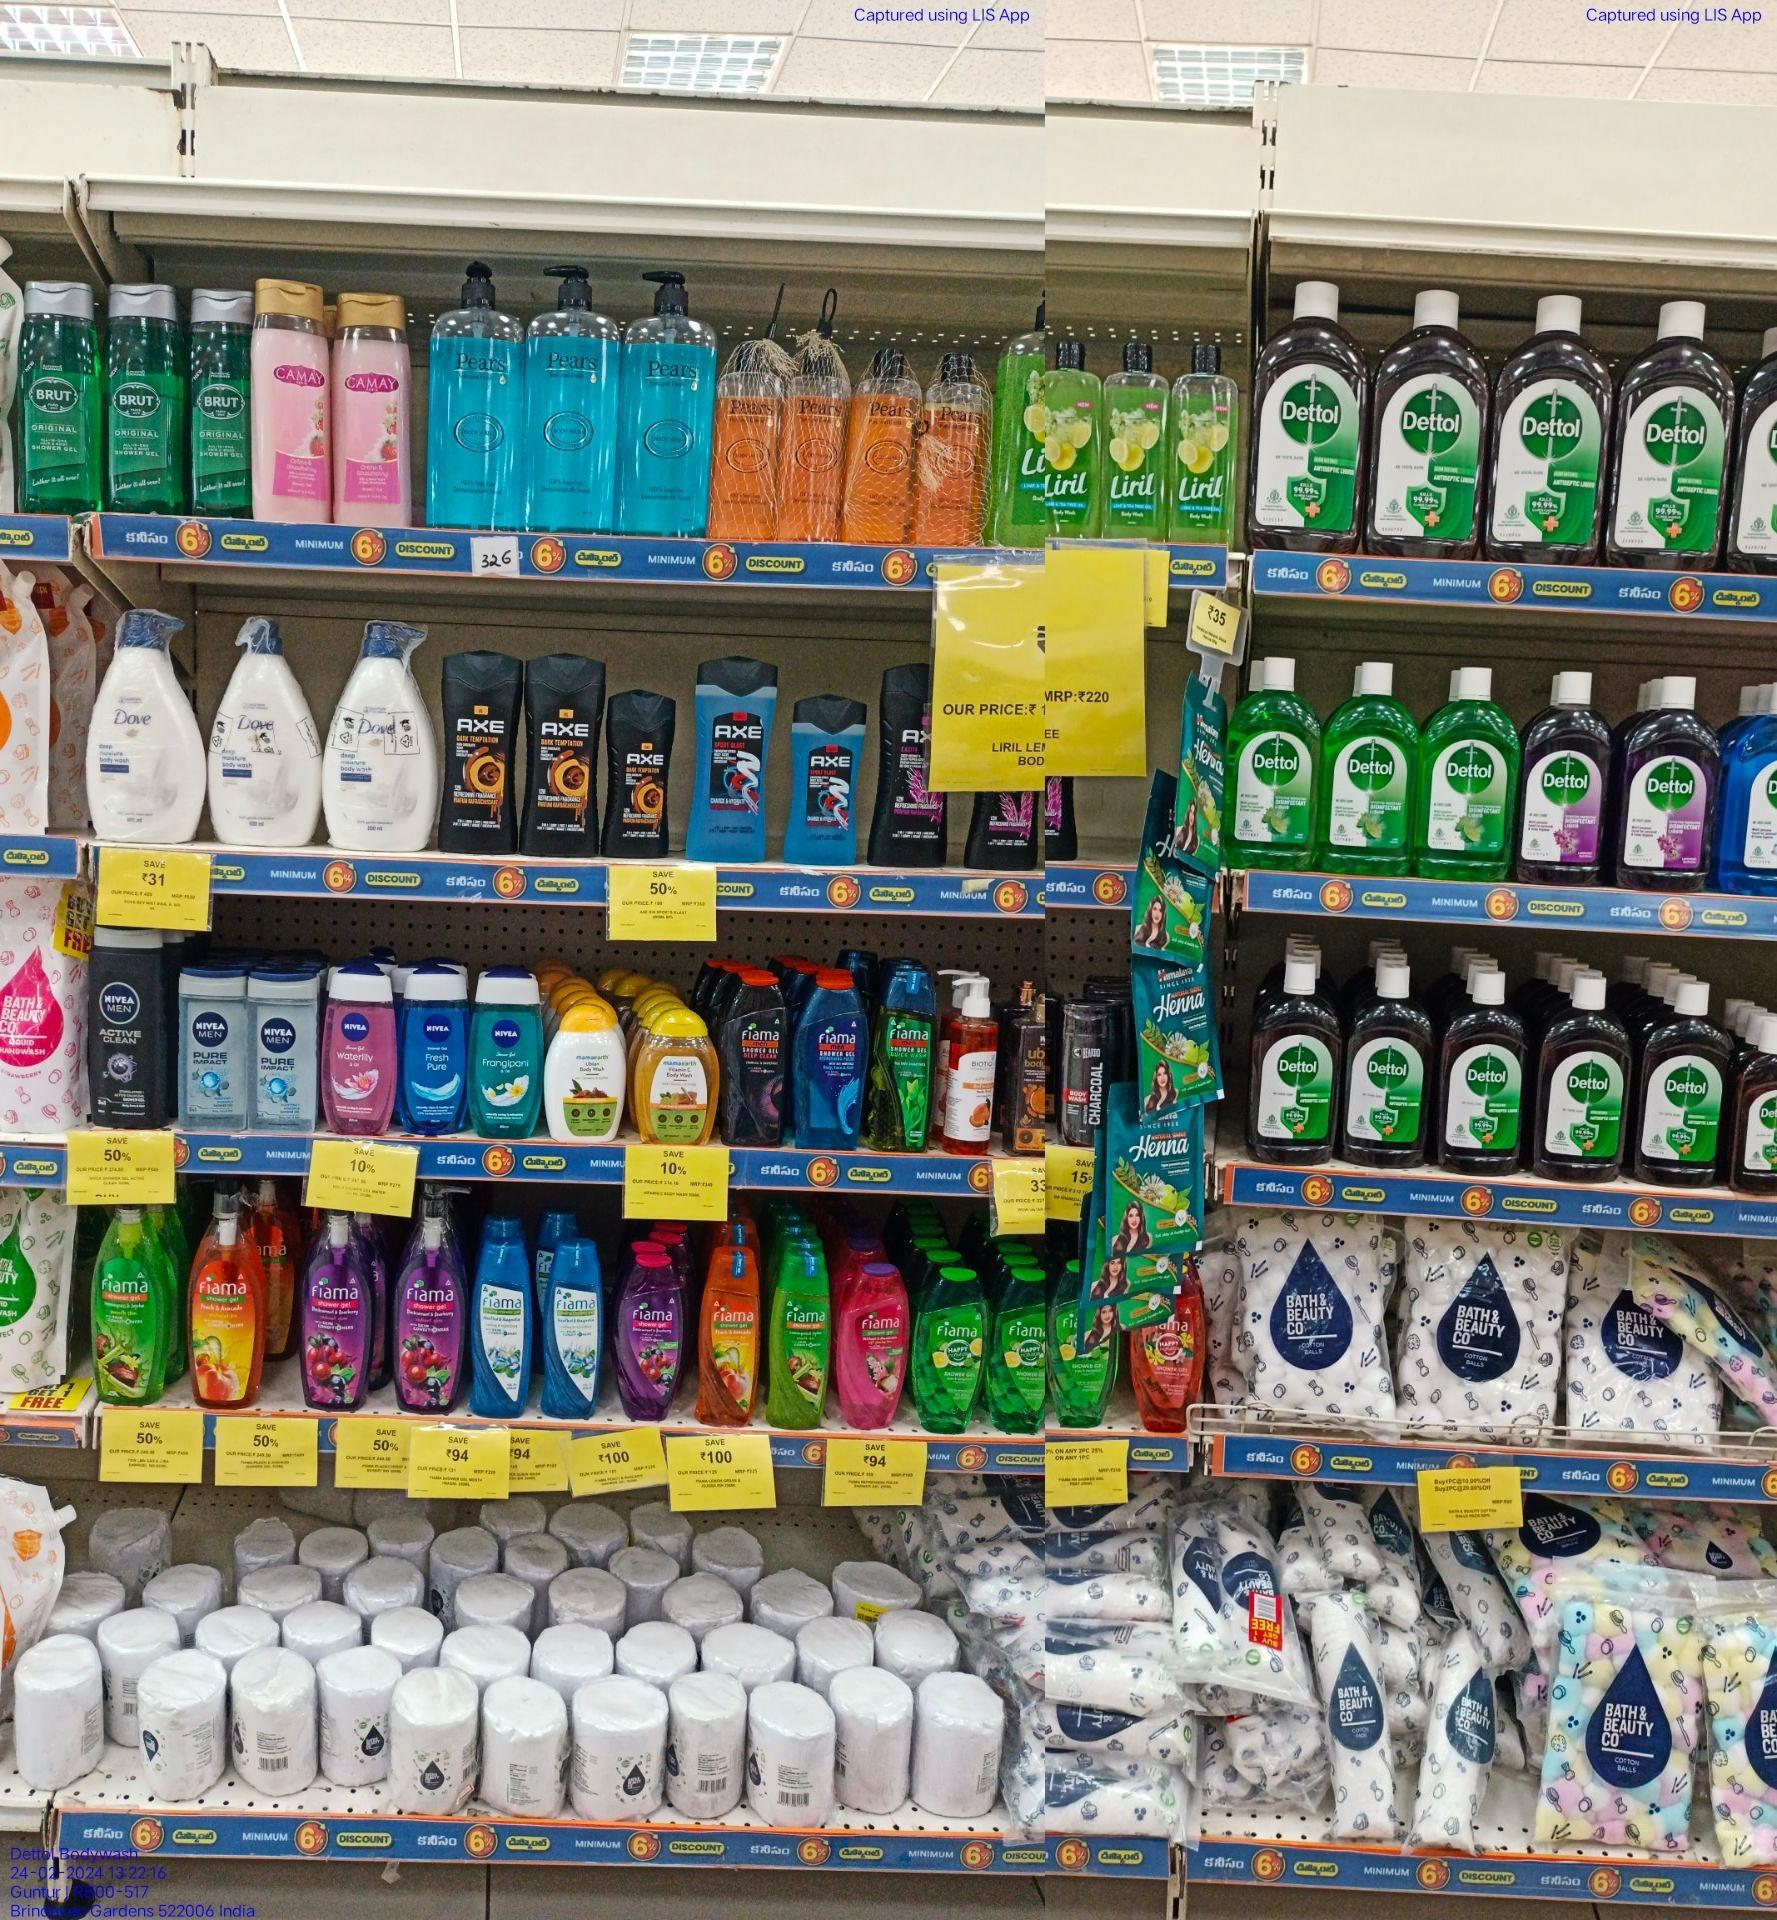Fiama_Shower_Gel_Patchouli_and_Macadamia_250ML: (838, 1271, 910, 1430)
Fiama_Shower_Gel_Peach_and_Avocado_250ML: (696, 1251, 761, 1423)
Liril_Lime_and_Tea_Tree_Oil_Body_Wash_250ML: (1106, 343, 1163, 540), (1171, 346, 1228, 544), (1049, 345, 1099, 542)
Nivea_Shower_Gel_Frangipani_and_Oil_250ML: (472, 965, 540, 1137)
Nivea_Shower_Gel_Waterlily_and_Oil_250ML: (325, 965, 397, 1137)
